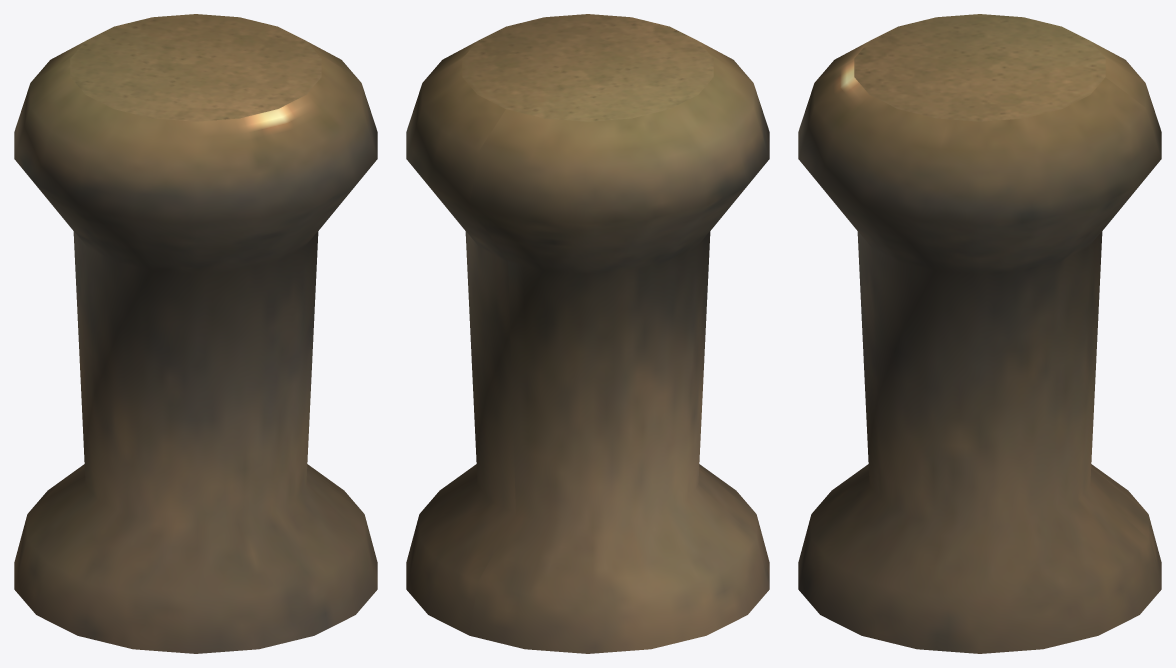
Rendered from SM_Bitte.fbx.
3 renders of one model, left to right at view 1: azimuth 30°, elevation 25°; view 2: azimuth 150°, elevation 25°; view 3: azimuth 270°, elevation 25°, orthographic.
Parts seen in each view (by area): view 1: Cylinder025; view 2: Cylinder025; view 3: Cylinder025.
Boxes of the visible parts, <box> form: Cylinder025: <box>14,14,377,653</box>; Cylinder025: <box>406,14,769,653</box>; Cylinder025: <box>798,14,1161,653</box>.
Bounding box in the file's own units: 27.8 × 27.38 × 42.26.
